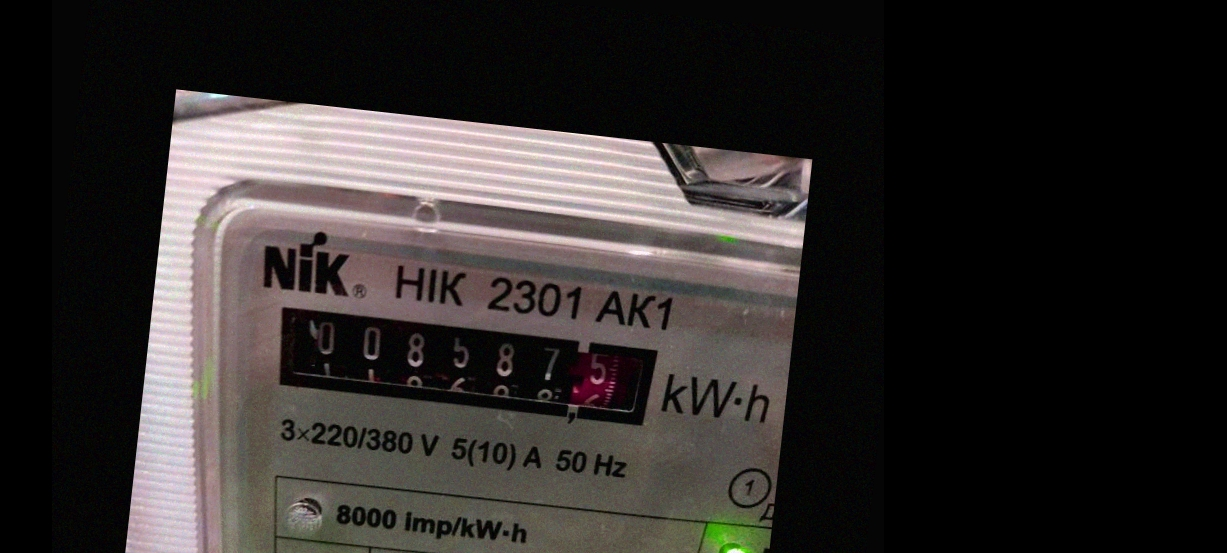0: (357, 320, 386, 362)
1: (311, 315, 340, 358)
5: (585, 346, 613, 389), (448, 331, 475, 371)
7: (536, 342, 563, 385)
8: (401, 327, 430, 370), (492, 337, 518, 380)
screen: (251, 284, 680, 448)
